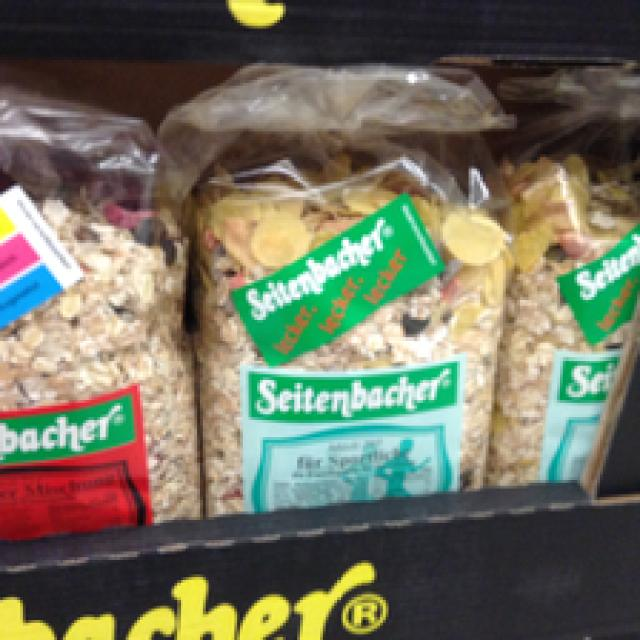groceries: (197, 157, 509, 517), (0, 182, 191, 548), (489, 160, 637, 483)
